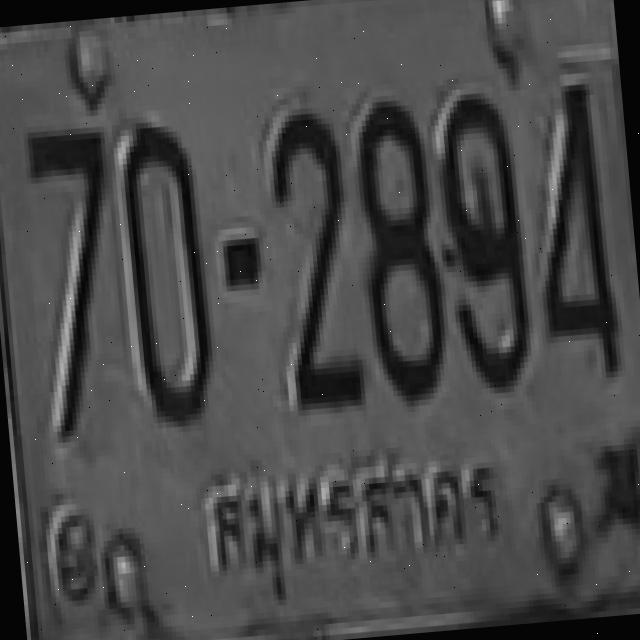0: (116, 115, 220, 426)
2: (264, 105, 360, 394), (263, 102, 358, 368)
4: (524, 78, 618, 376)
7: (22, 120, 130, 437)
8: (348, 95, 450, 401)
9: (432, 88, 530, 393)
SamutSakhon: (184, 432, 514, 618)
